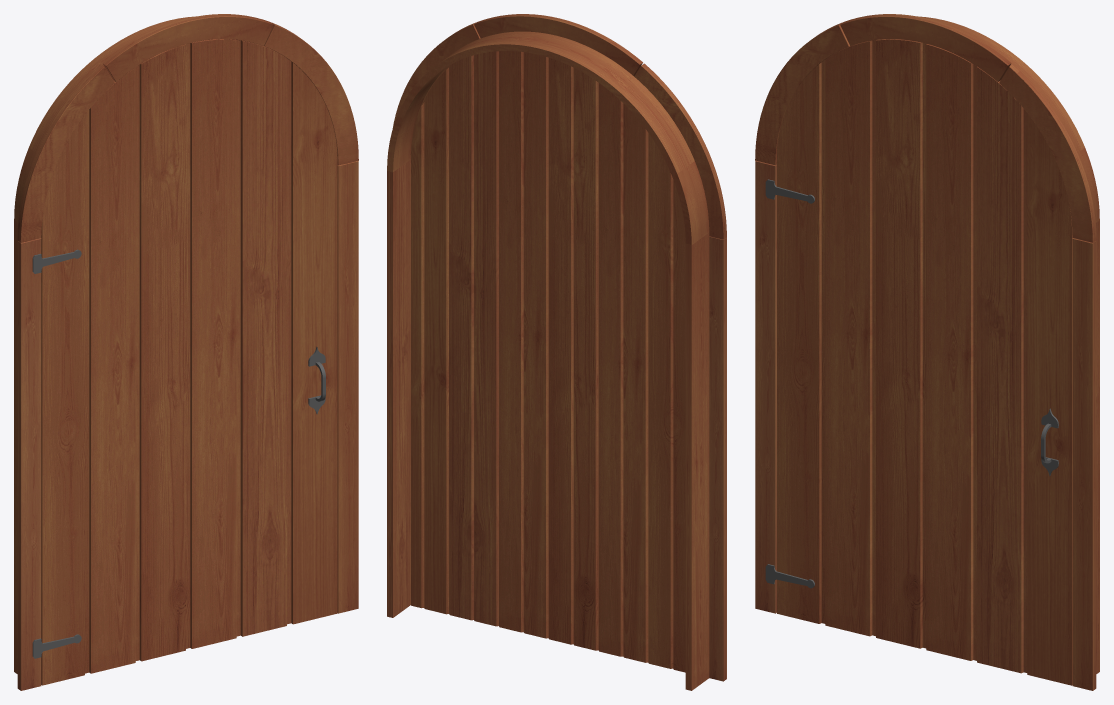
3 views of the same model, side by side, from view 1: azimuth 30°, elevation 25°; view 2: azimuth 150°, elevation 25°; view 3: azimuth 330°, elevation 25° (orthographic).
Parts seen in each view (by area): view 1: planck003, planck004, planck005, planck002, planck001, planck006, trim_left, trim_right, trim_top_left, trim_top, trim_top_right, box_top (+2 smaller); view 2: planck003, planck004, planck005, planck002, planck006, planck001, box_left, box_top, box_right, trim_left, trim_top_left, trim_top (+1 smaller); view 3: planck003, planck004, planck002, planck005, planck001, planck006, trim_right, trim_left, trim_top_right, trim_top, trim_top_left, box_top (+2 smaller).
Boxes of the visible parts, x1,y1,x2,y2 form: planck003: (139,43,190,661); planck004: (190,39,240,648); planck005: (240,40,291,636); planck002: (89,65,139,673); planck001: (41,110,89,685); planck006: (291,62,337,624); trim_left: (17,238,41,690); trim_right: (337,160,358,613); trim_top_left: (17,64,114,242); trim_top: (102,14,273,81); trim_top_right: (264,22,358,165); box_top: (14,16,196,222); planck003: (548,58,598,650); planck004: (499,51,548,638); planck005: (449,51,498,626); planck002: (598,83,648,662); planck006: (411,67,448,614); planck001: (648,133,685,672); box_left: (685,233,709,690); box_top: (387,31,709,245); box_right: (387,160,410,617); trim_left: (709,236,726,681); trim_top_left: (634,63,726,239); trim_top: (474,14,642,76); planck003: (876,39,926,648); planck004: (926,44,976,660); planck002: (825,40,876,636); planck005: (977,66,1027,673); planck001: (777,60,825,623); planck006: (1027,113,1072,685); trim_right: (1072,238,1096,690); trim_left: (755,160,776,613); trim_top_right: (999,64,1096,242); trim_top: (840,14,1011,81); trim_top_left: (755,22,849,165); box_top: (917,16,1099,222).
Bounding box in the file's own units: 41.1 × 73.02 × 6.16.
9 materials, 8 textured.
